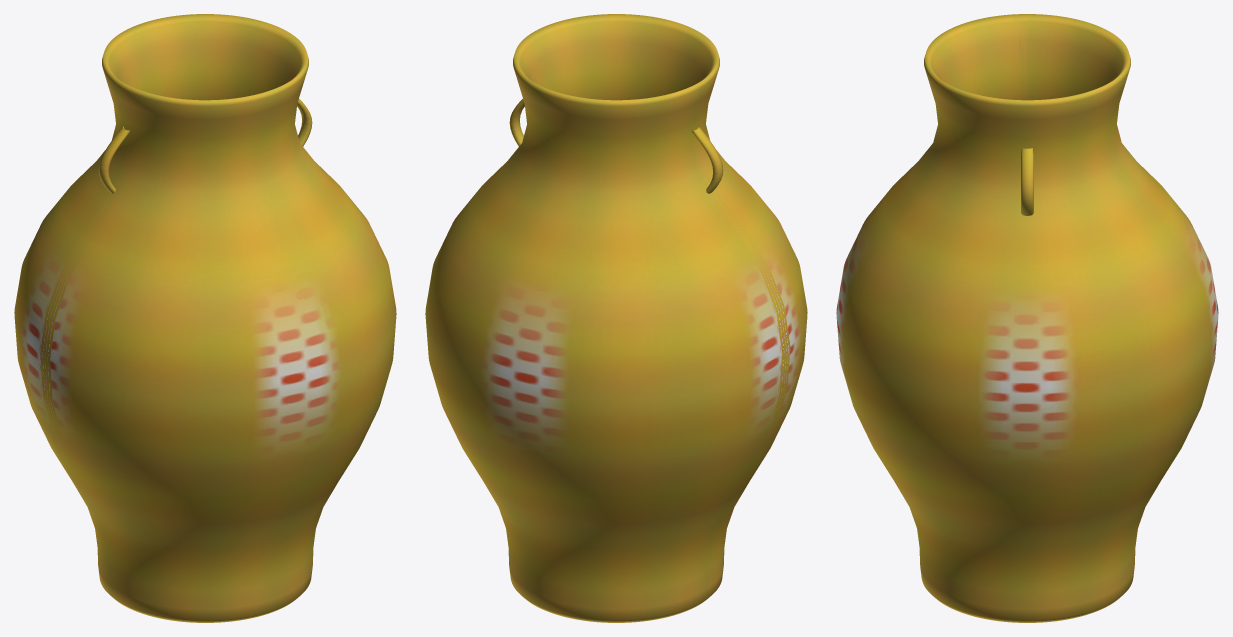
The model's file is QingQianlong_RevolvingVase_Master.glb.
3 views of the same model, side by side, from view 1: azimuth 30°, elevation 25°; view 2: azimuth 150°, elevation 25°; view 3: azimuth 270°, elevation 25° (orthographic).
Parts seen in each view (by area): view 1: QingQianlong_RevolvingVase_Ultra; view 2: QingQianlong_RevolvingVase_Ultra; view 3: QingQianlong_RevolvingVase_Ultra.
Boxes of the visible parts, <box> form: QingQianlong_RevolvingVase_Ultra: <box>14,14,396,622</box>; QingQianlong_RevolvingVase_Ultra: <box>425,14,807,622</box>; QingQianlong_RevolvingVase_Ultra: <box>836,14,1218,622</box>.
Size of the model in its own units: 0.1614 by 0.2437 by 0.1614.
Materials: 1 (1 with a texture image).
